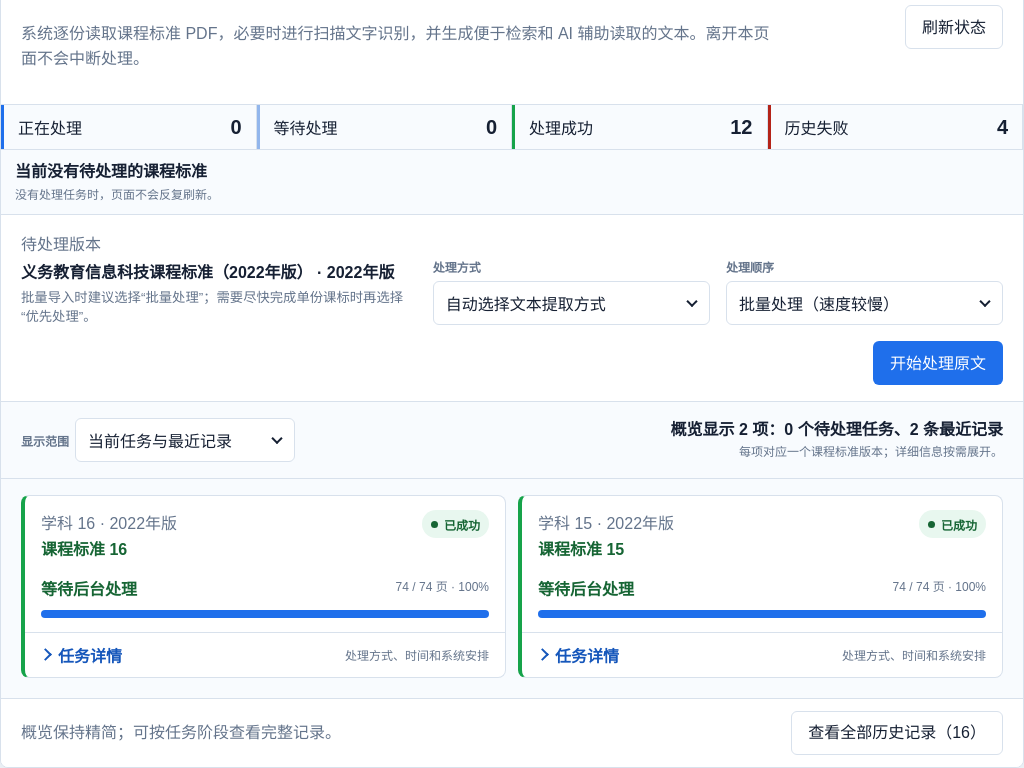
Test: curriculum processing task center › shows only recent history by default and reveals older records in fixed-size batches
(page scrolled)
Expected: the number of elements with class "task-card" is 2, top-left (21, 495), bottom-right (506, 678); top-left (518, 495), bottom-right (1003, 678)
Click the button "查看全部历史记录（16）" at {"x": 897, "y": 733}, box top-left (791, 711), bottom-right (1003, 755)
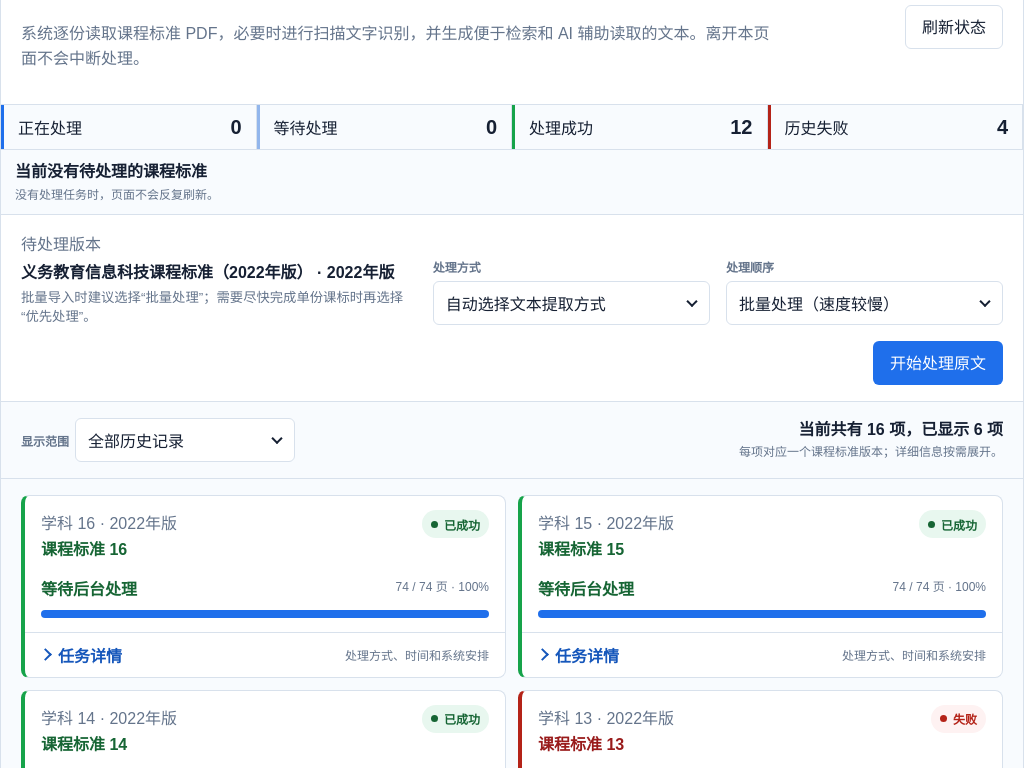
Expected: the number of elements with class "task-card" is 6
